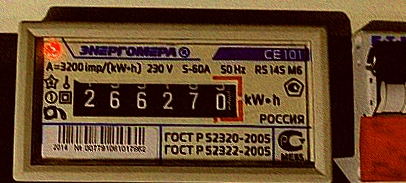0: (214, 90, 226, 111)
2: (82, 86, 96, 107), (161, 89, 173, 110)
6: (108, 88, 121, 109), (134, 89, 147, 108)
7: (186, 89, 199, 110)
screen: (63, 68, 251, 129)
